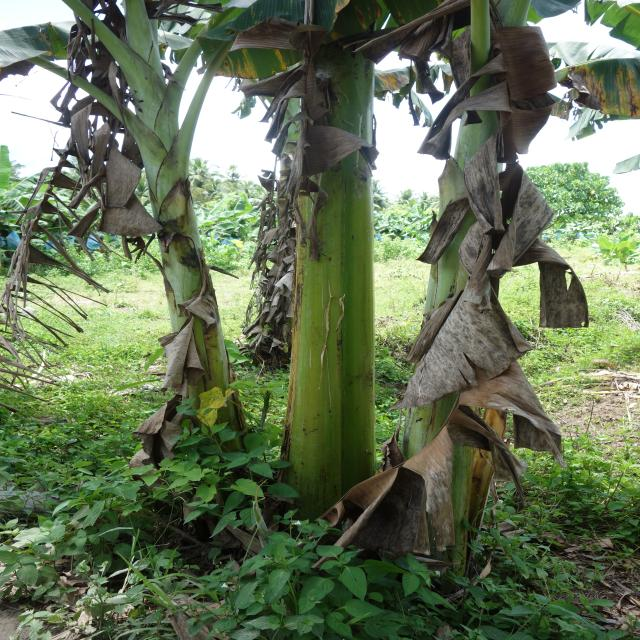Banana-plant: (258, 16, 390, 537), (402, 21, 527, 563), (102, 72, 258, 500)
